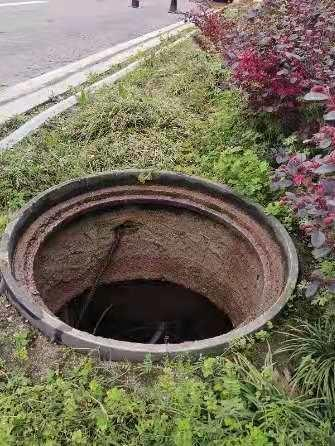wellcover: (8, 166, 305, 354)
